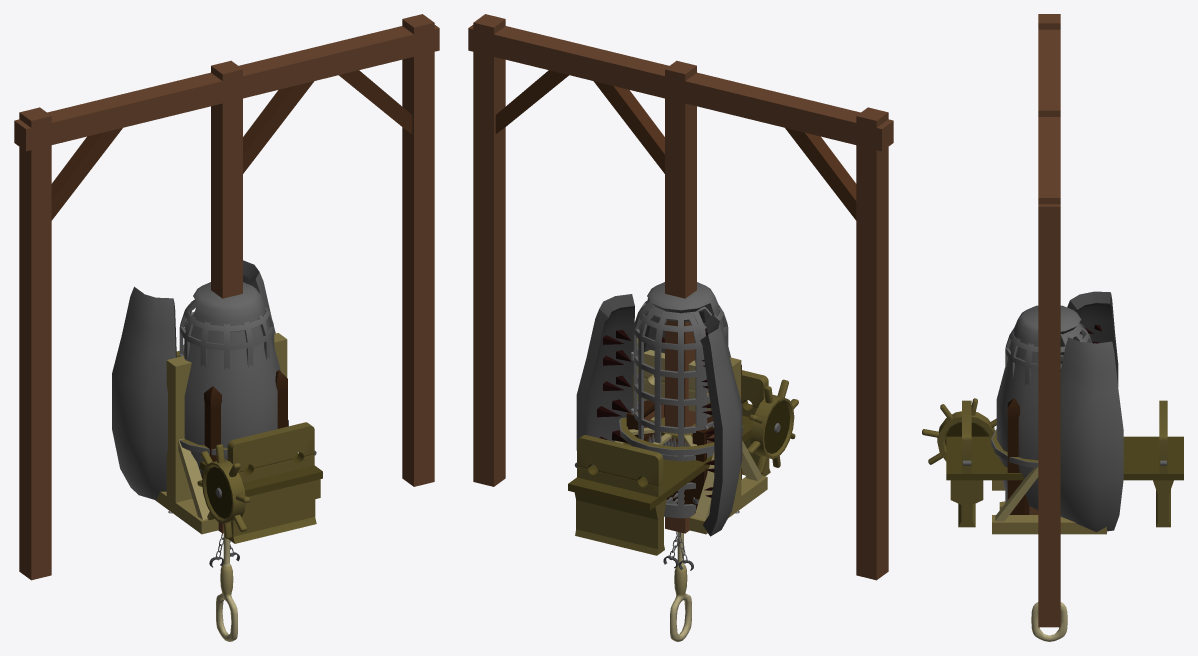
File: Torture.fbx
The picture shows the model from 3 angles, left to right: view 1: azimuth 30°, elevation 25°; view 2: azimuth 150°, elevation 25°; view 3: azimuth 270°, elevation 25°; orthographic projection. The views are drawn at different scales.
Parts seen in each view (by area): view 1: Gibbit01A, IronMaiden01A, Gallows01A, Rack01A, Pillory01A, IronCage01A, SpikedChair01A, Noose01A; view 2: Gibbit01A, Gallows01A, Rack01A, IronMaiden01A, IronCage01A, IronCage02A-Door, Pillory01A, SpikedChair01A, BreakingWheel01A, Noose01A; view 3: IronMaiden01A, Gibbit01A, Rack01A, Pillory01A, Gallows01A, SpikedChair01A, IronCage01A, Noose01A, BreakingWheel01A.
Part boxes in pixels (<box>): Gibbit01A: <box>14,14,439,580</box>; IronMaiden01A: <box>112,260,280,499</box>; Gallows01A: <box>206,41,354,533</box>; Rack01A: <box>176,351,322,543</box>; Pillory01A: <box>155,333,287,534</box>; IronCage01A: <box>179,300,274,369</box>; SpikedChair01A: <box>201,370,287,478</box>; Noose01A: <box>216,533,237,641</box>; Gibbit01A: <box>468,14,893,580</box>; Gallows01A: <box>553,40,701,533</box>; Rack01A: <box>568,370,798,555</box>; IronMaiden01A: <box>576,282,742,536</box>; IronCage01A: <box>633,299,728,518</box>; IronCage02A-Door: <box>633,303,701,512</box>; Pillory01A: <box>615,338,767,534</box>; SpikedChair01A: <box>626,365,741,513</box>; BreakingWheel01A: <box>619,417,742,455</box>; Noose01A: <box>670,532,691,641</box>; IronMaiden01A: <box>996,291,1123,532</box>; Gibbit01A: <box>1038,14,1060,627</box>; Rack01A: <box>922,398,1183,527</box>; Pillory01A: <box>992,466,1106,534</box>; Gallows01A: <box>1038,101,1060,167</box>; SpikedChair01A: <box>1007,398,1038,514</box>; IronCage01A: <box>1005,323,1091,514</box>; Noose01A: <box>1031,602,1067,641</box>; BreakingWheel01A: <box>991,429,1038,509</box>.
Size of what is drawn, in the model's own units: 4.62 by 6.12 by 2.71.
